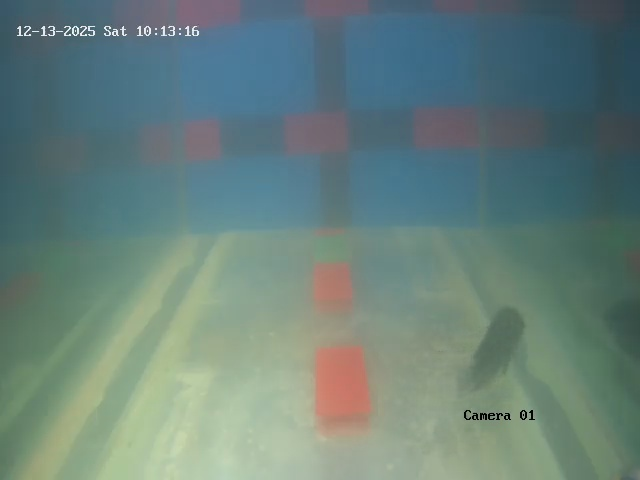fish: (466, 302, 530, 396)
